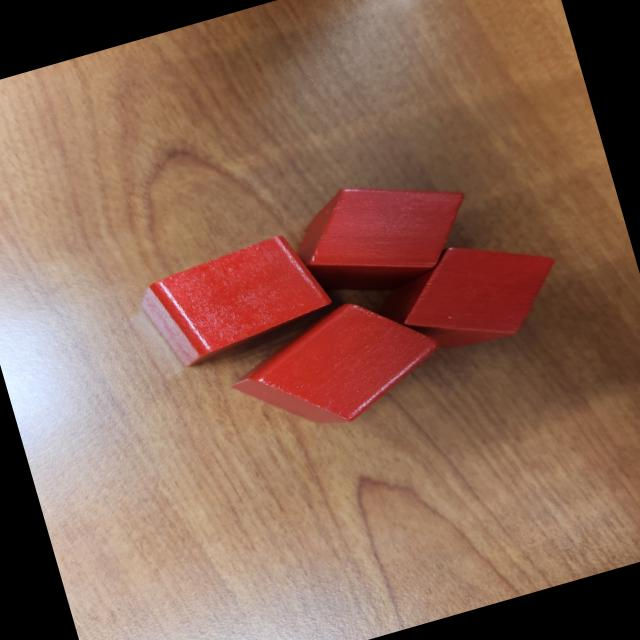red: (217, 279, 457, 451), (278, 154, 487, 312), (134, 224, 343, 378), (386, 219, 576, 366)
